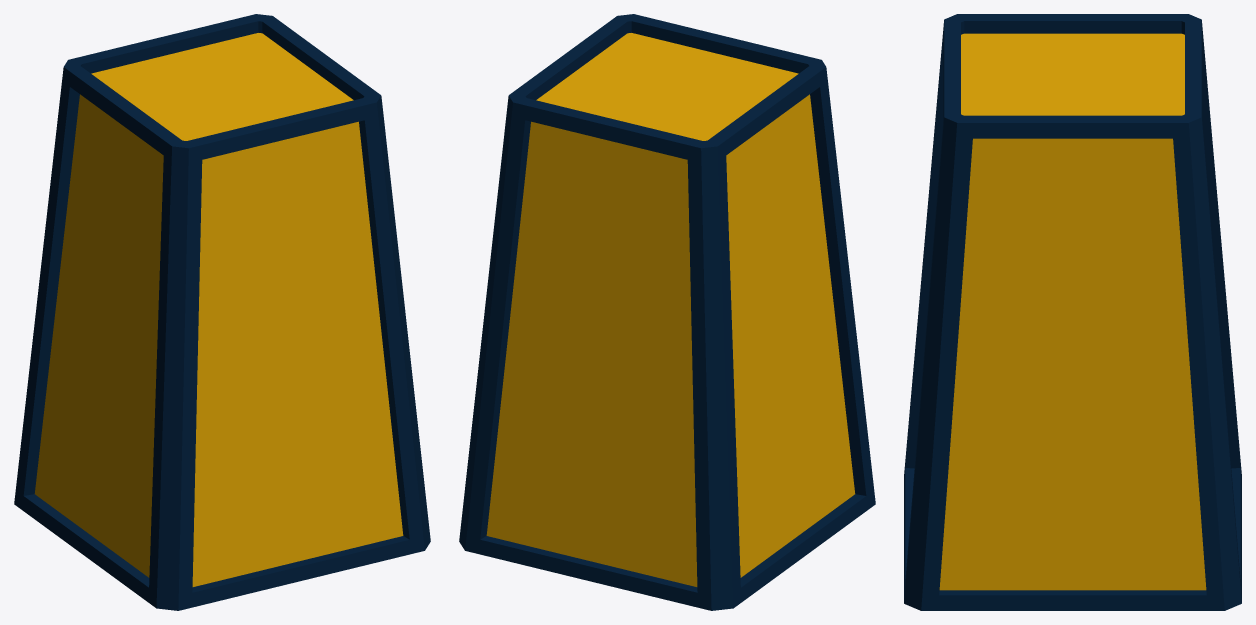
The model's file is key_b.fbx.
3 views of the same model, side by side, from view 1: azimuth 30°, elevation 25°; view 2: azimuth 150°, elevation 25°; view 3: azimuth 270°, elevation 25° (orthographic). The views are drawn at different scales.
Visible parts, largest first — view 1: key_b; view 2: key_b; view 3: key_b.
Boxes of the visible parts, bbox=[...] form: key_b: bbox=[14, 14, 430, 610]; key_b: bbox=[459, 14, 875, 610]; key_b: bbox=[904, 14, 1241, 610].
Bounding box in the file's own units: 6.01 × 9.24 × 6.01.
